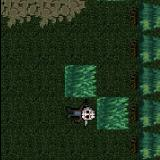Obstacle: (127, 0, 160, 34), (127, 96, 160, 130), (127, 65, 160, 96), (127, 129, 160, 160), (127, 34, 160, 64)
Slow: (64, 64, 96, 98), (96, 96, 127, 130)
